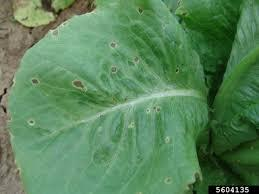Bok-Choy-Diseased: (17, 4, 196, 191)
